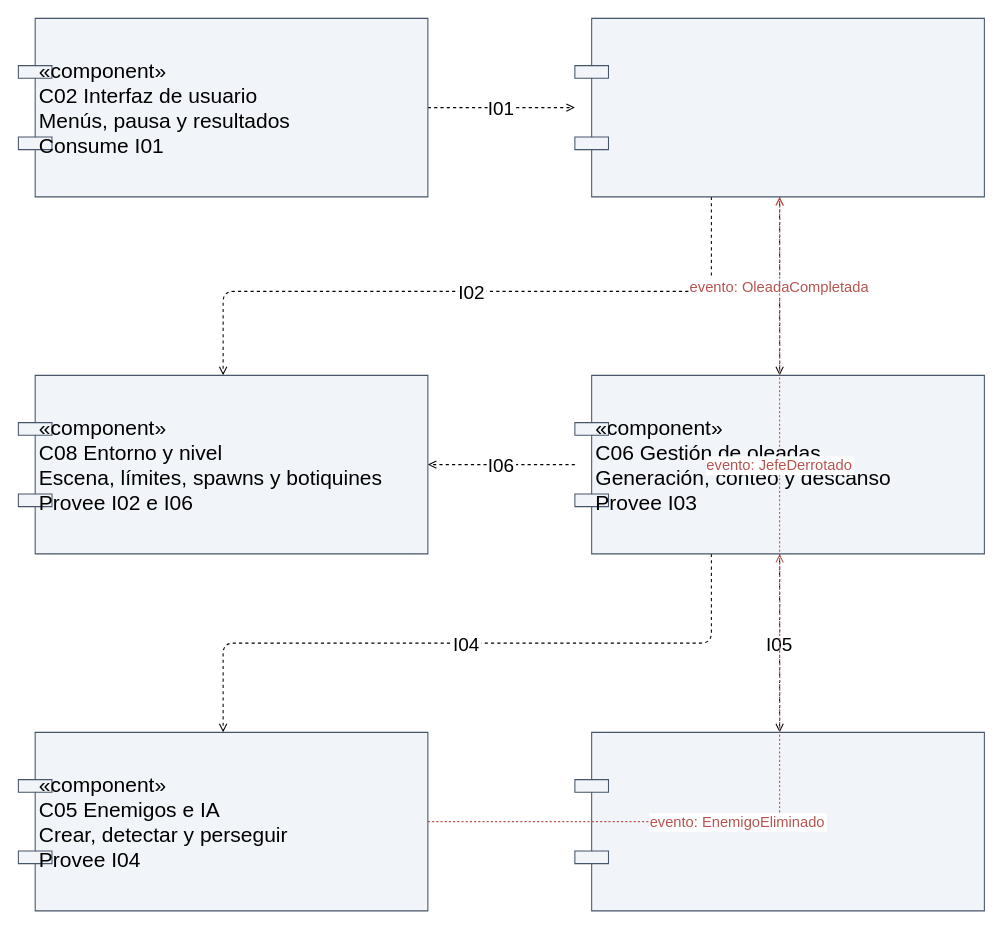
Some shapes in this 1003 by 929 pixel diagram are drawn without their labels. The shapes that lost their labels are listed below. From the top down, each one's centre as x and y in pixels, then its label:
the point at 779,107: «component» C01 Núcleo de partida Inicio, pausa y finalización Provee I01
the point at 779,821: «component» C09 Jefe final Activación y fases del jefe Provee I05
